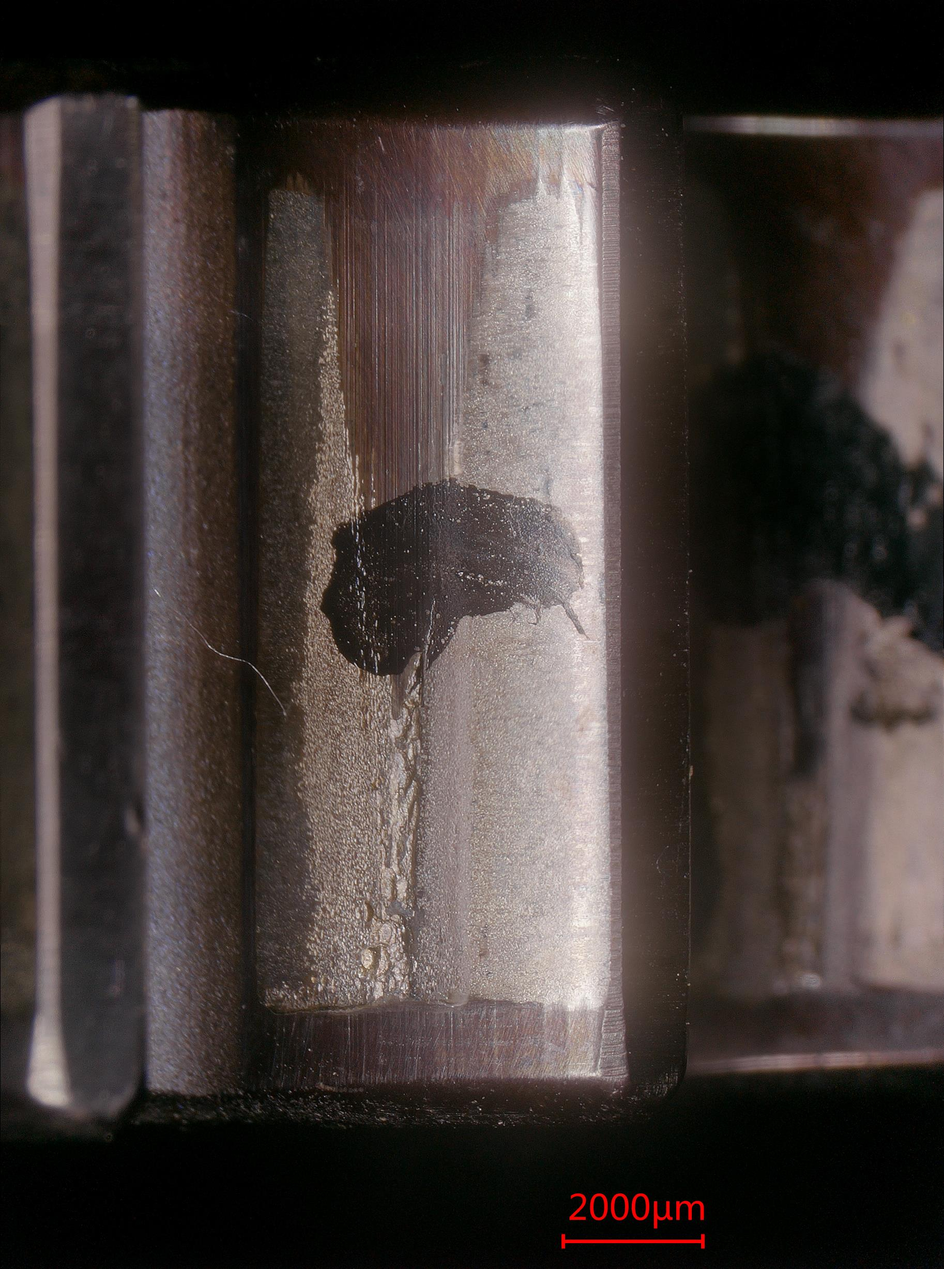Abrasion: (250, 126, 603, 1098)
